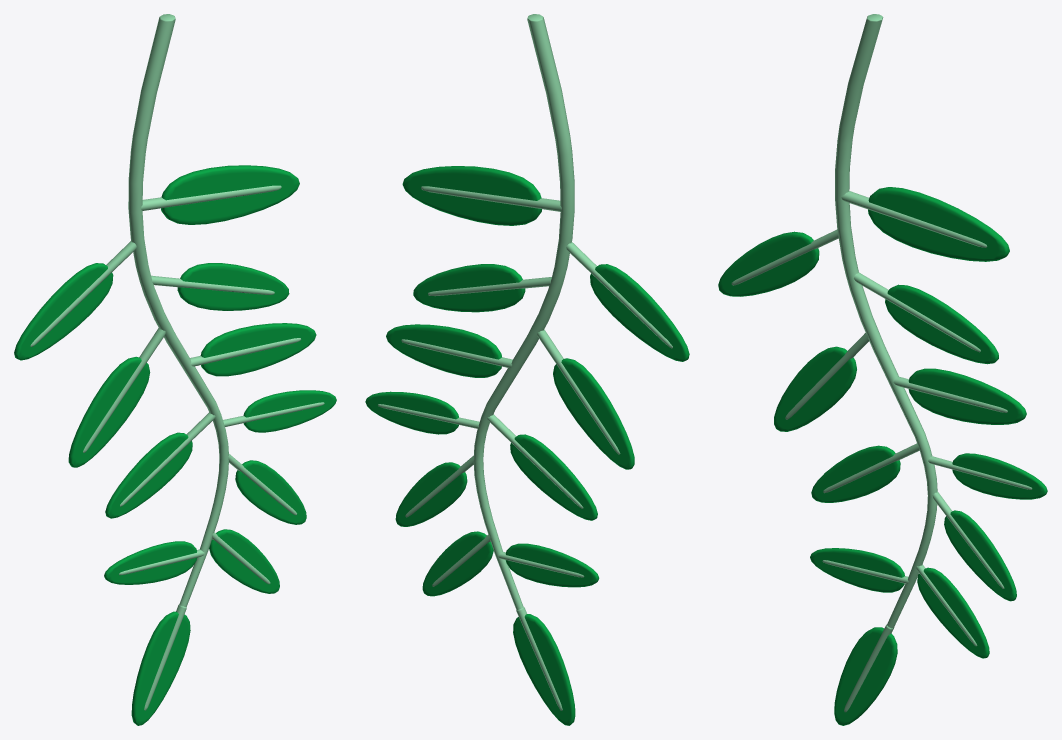
File: Town_17_Liana_1.glb
The picture shows the model from 3 angles, left to right: view 1: azimuth 30°, elevation 25°; view 2: azimuth 150°, elevation 25°; view 3: azimuth 330°, elevation 25°; orthographic projection. The views are drawn at different scales.
Visible parts, largest first — view 1: Town_17_Liana_1; view 2: Town_17_Liana_1; view 3: Town_17_Liana_1.
Boxes of the visible parts, <box> form: Town_17_Liana_1: <box>14,14,336,725</box>; Town_17_Liana_1: <box>365,14,689,725</box>; Town_17_Liana_1: <box>718,14,1047,725</box>.
Size of the model in its own units: 1.24 by 2.57 by 0.0584.
Materials: 1 (1 with a texture image).
